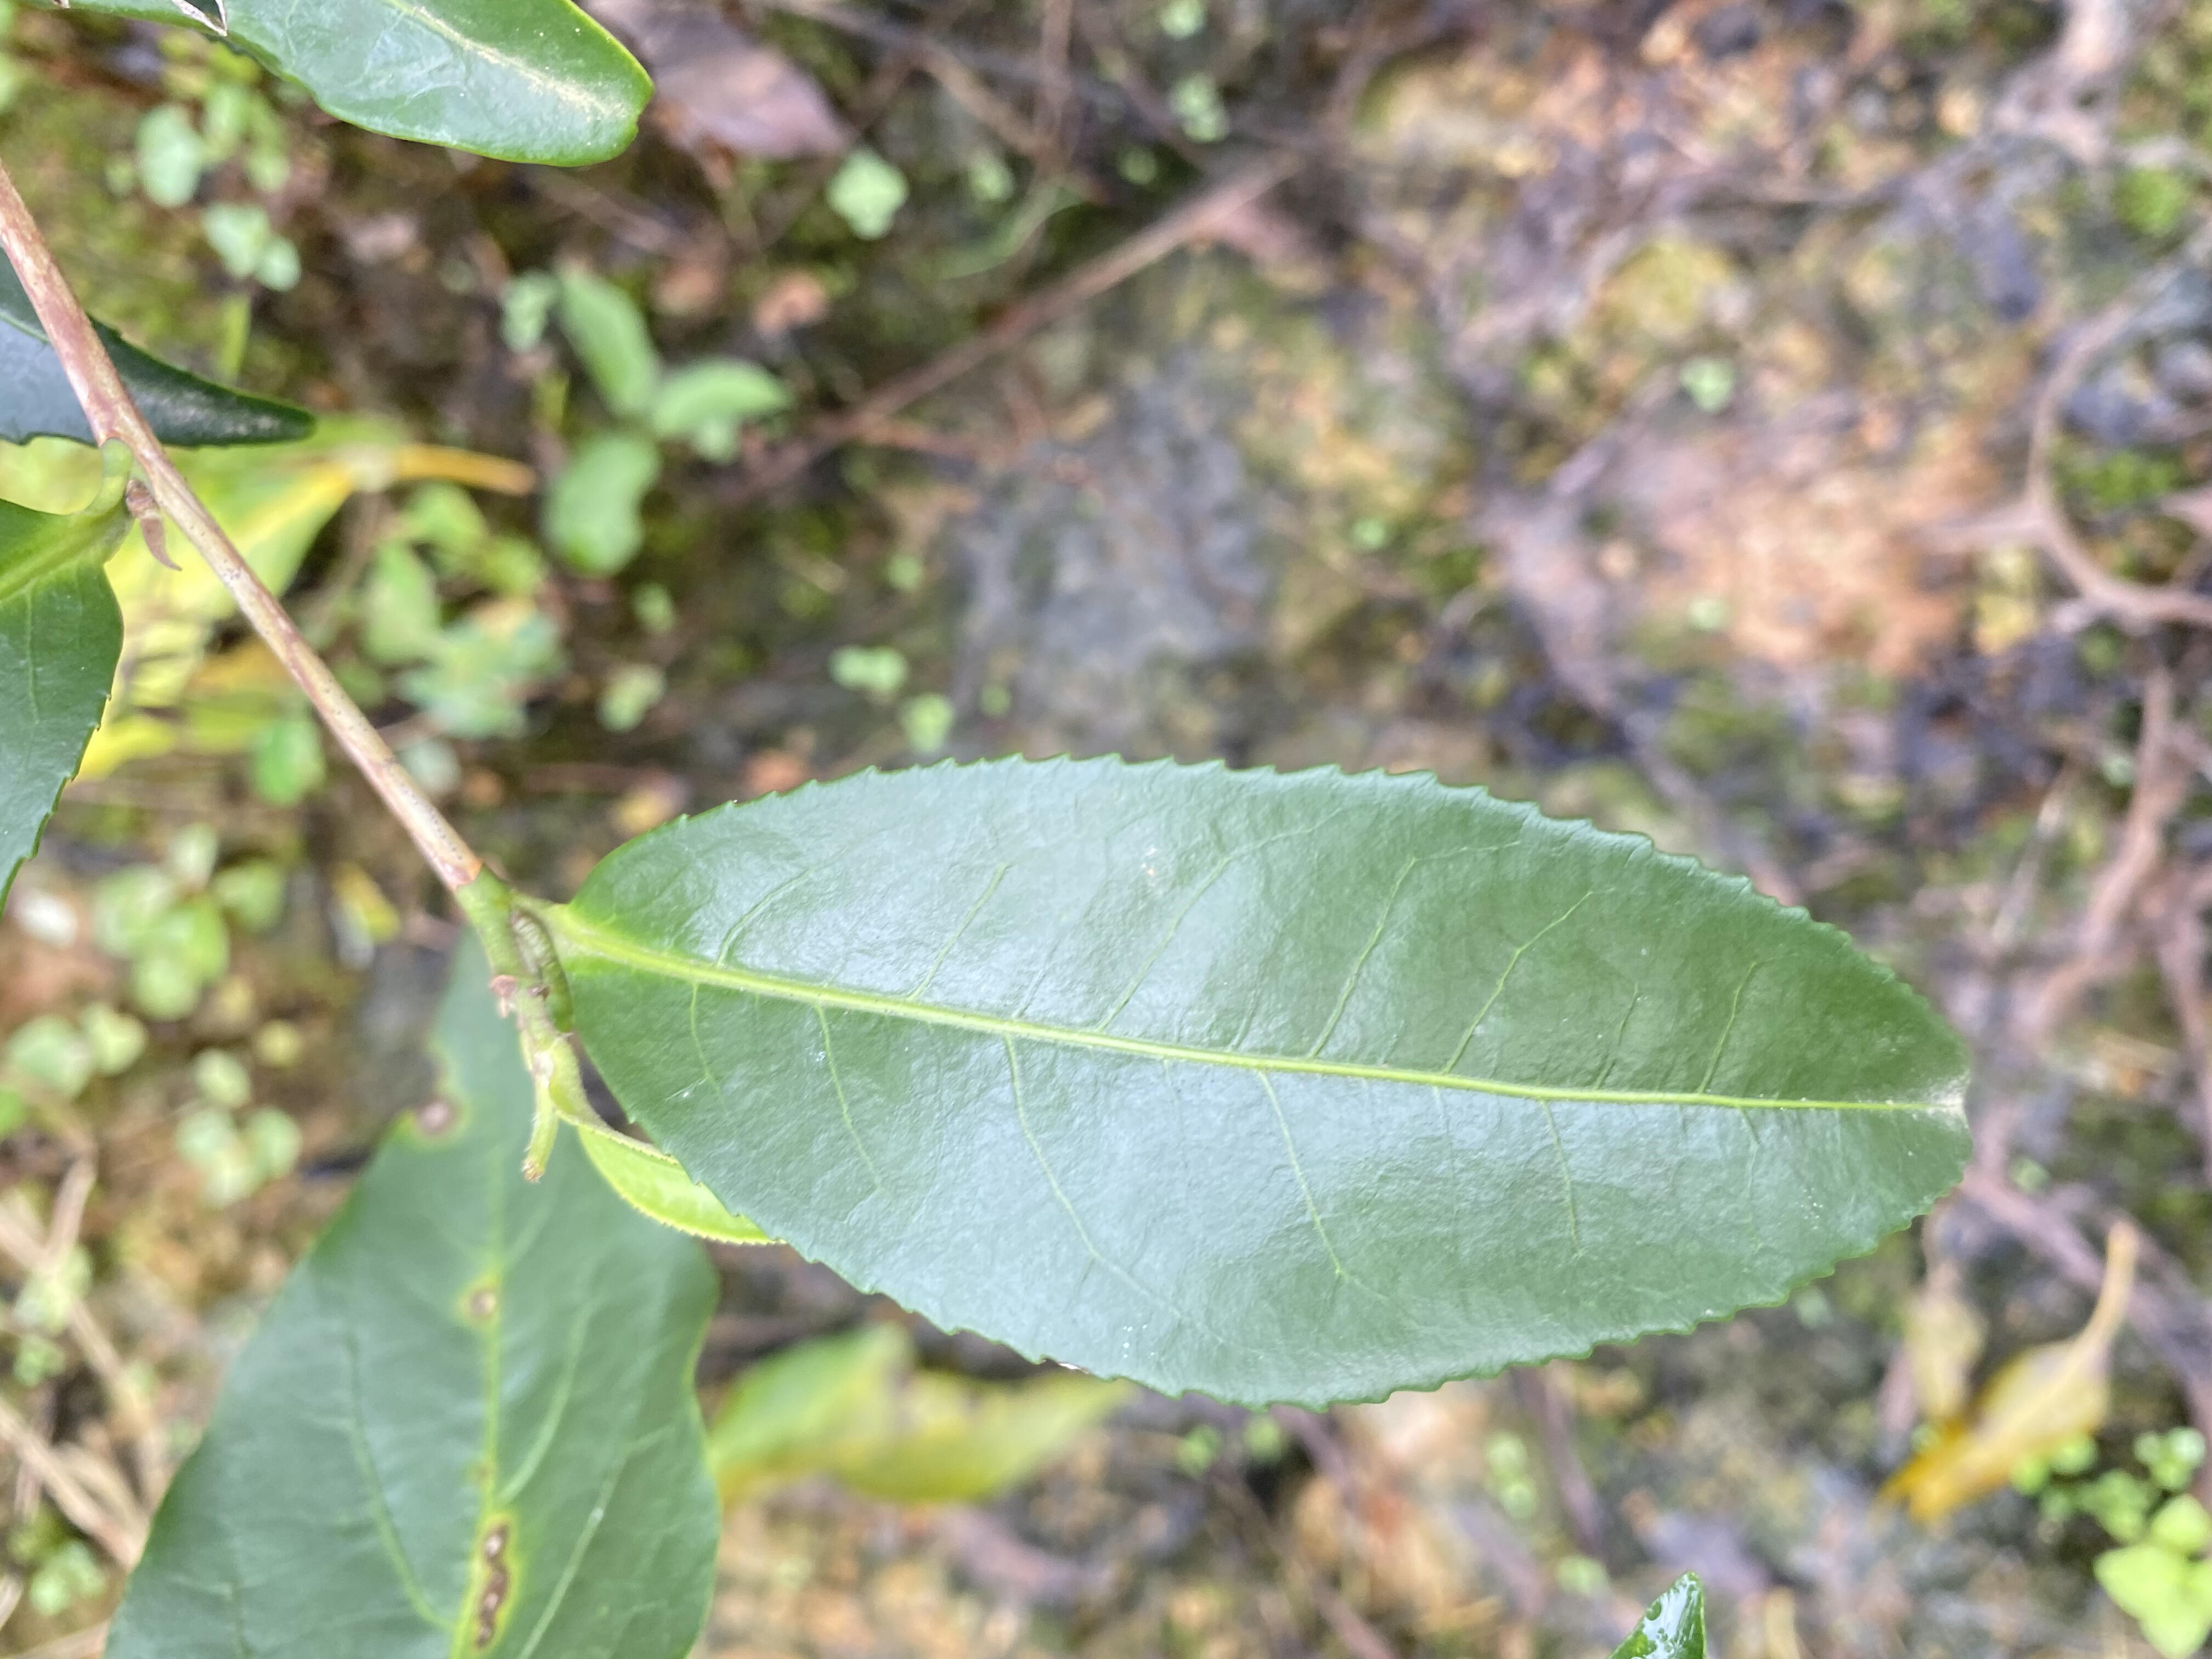healthy: (566, 749, 1973, 1419)
tanju_high: (99, 924, 726, 1657)
